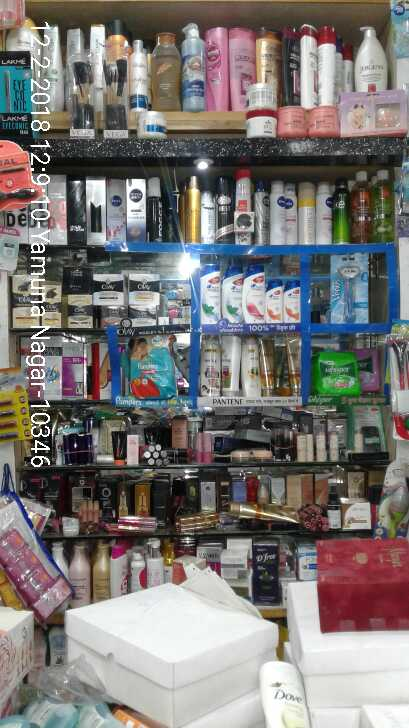venus: (330, 254, 369, 323)
